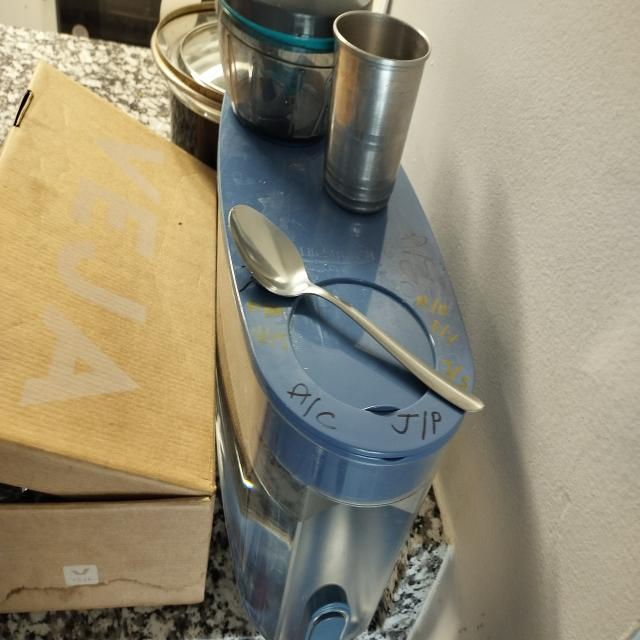Spoon: (226, 180, 494, 422)
